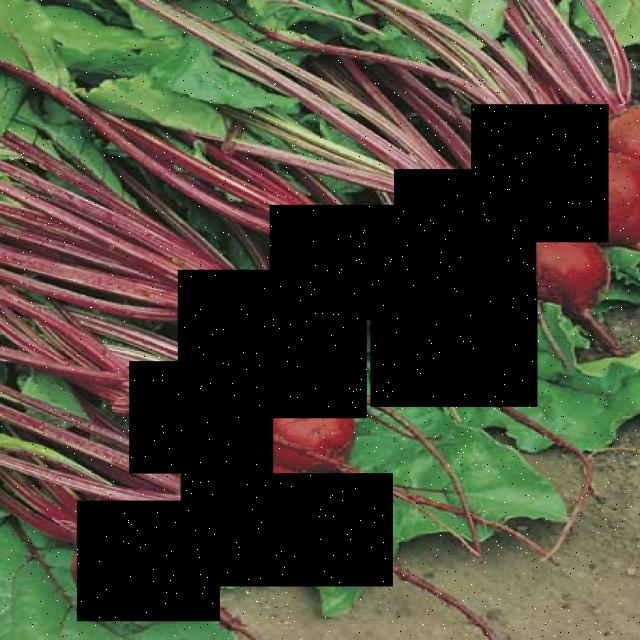Beetroot: (178, 270, 367, 419), (181, 473, 393, 587), (370, 284, 538, 407), (394, 169, 536, 305), (471, 105, 609, 242), (77, 501, 220, 622), (270, 205, 414, 320), (130, 361, 274, 474)
